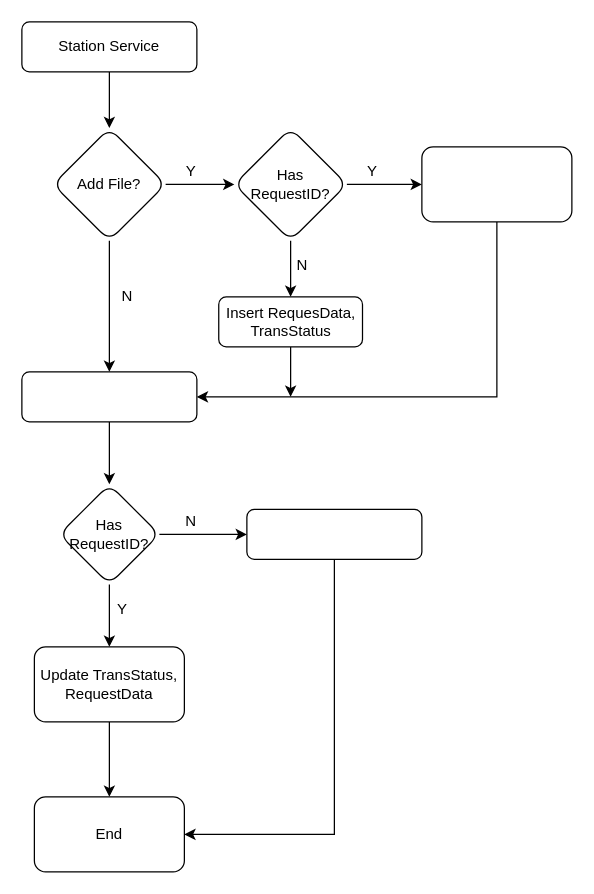
Some shapes in this 594 by 894 pixel diagram are drawn without their labels. Here are the shapes that lost their labels. From the top down, the box of each, then its label:
(421, 146, 572, 222): Update TransStatus
(21, 371, 197, 422): Submit Request
(246, 508, 422, 559): Insert - RequestData, TransStatus
